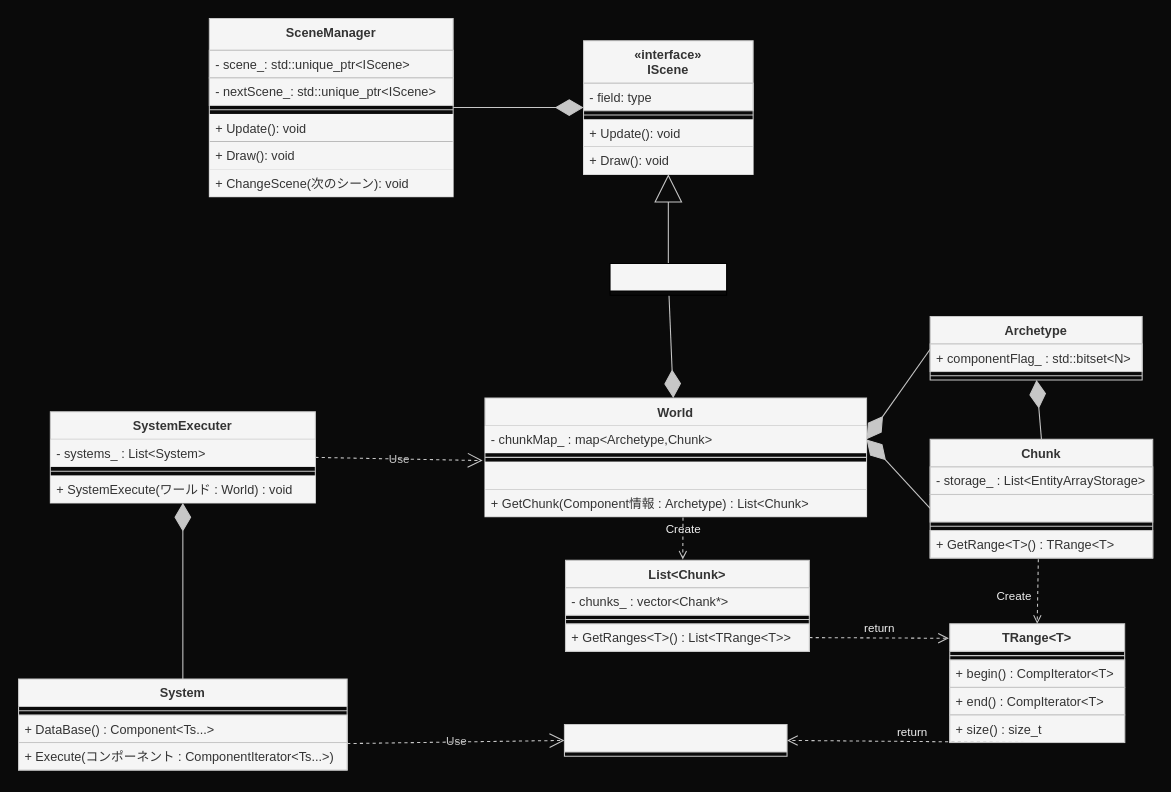
Image size: 1171x792. Some labels were removed from this diagram. The centre of each missing label's shape, as x and y in pixels:
"+ CreateEntity(Component情報 : Archetype, 生成数: size_t)" belongs at point (675, 475).
"- size_ : size_t = 0u" belongs at point (1041, 507).
"ComponentIterator" belongs at point (675, 739).
"GameScene" belongs at point (668, 278).
